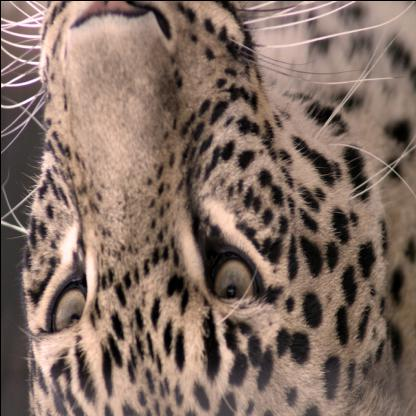leopard: (8, 1, 353, 415)
